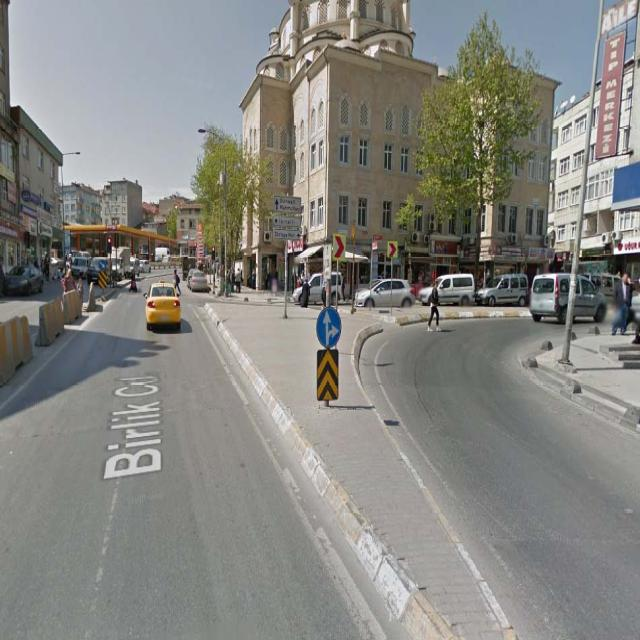ilerisag: (316, 306, 342, 349)
kirmizi: (107, 235, 112, 251), (211, 246, 215, 260)
